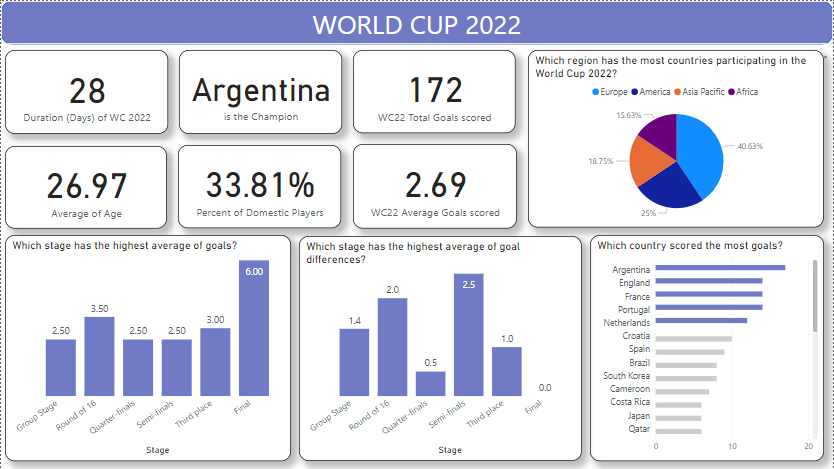

What the dashboard file says about the page in this screenshot:
{"tool":"powerbi","page":{"name":"WC 2022","canvas":[1280,720],"ordinal":1},"visuals":[{"type":"shape","box":[0,0,1280,66.8],"z":0},{"type":"pieChart","title":"Which region has the most countries participating in the World Cup 2022?","fields":{"Y":["Count(2022_world_cup_squads.Team)"],"Category":["Countries by Continents.Continent (modified)"]},"box":[810.4,76.1,455.2,273.1],"z":1000},{"type":"card","fields":{"Values":["2022 Measures.WC22 duration"]},"box":[6,75.7,250.8,128.6],"z":2000},{"type":"card","fields":{"Values":["2022 Measures.WC22 Goals scored"]},"box":[541.1,76.1,249.9,128.2],"z":3000},{"type":"card","fields":{"Values":["2022 Measures.WC22 mMost Goals Match"]},"box":[541.1,219.5,252.1,130.4],"z":4000},{"type":"clusteredBarChart","title":"Which country scored the most goals?","fields":{"Category":["Country paricipated in WC.Country"],"Y":["2022 Measures.WC22 Goals scored"],"Series":["Country paricipated in WC.Country (groups)"]},"box":[906,359.7,359.7,347.8],"z":5000},{"type":"card","fields":{"Values":["Min(world_cups_statistics.Winner)"]},"box":[273.5,75.7,250.8,128.6],"z":6000},{"type":"card","fields":{"Values":["Avg(2022_world_cup_squads.Age)"]},"box":[6,222.4,249.3,126.9],"z":7000},{"type":"card","fields":{"Values":["2022 Measures.Domestic Players"]},"box":[272.8,220.9,250.7,128.4],"z":8000},{"type":"columnChart","title":"Which stage has the highest average of goals?","fields":{"Category":["2022_world_cup_matches.Stage"],"Y":["2022 Measures.WC22 Average Goals scored"]},"box":[6,359.7,440.3,347.8],"z":9000},{"type":"columnChart","title":"Which stage has the highest average of goal differences?","fields":{"Category":["2022_world_cup_matches.Stage"],"Y":["2022 Measures.Avg Goal Difference"]},"box":[458.2,361.2,435,346.3],"z":10000}]}

Visuals, with their boxes in screenshot pixels (x1, y1, x2, y2), scaled from the page's 1280x720 canvas onto the 834x469 screenshot:
shape: [0, 0, 833, 44]
"Which region has the most countries participating in the World Cup 2022?" pieChart: [528, 50, 825, 227]
card - 2022 Measures.WC22 duration: [4, 49, 167, 133]
card - 2022 Measures.WC22 Goals scored: [353, 50, 515, 133]
card - 2022 Measures.WC22 mMost Goals Match: [353, 143, 517, 228]
"Which country scored the most goals?" clusteredBarChart: [590, 234, 825, 461]
card - Min(world_cups_statistics.Winner): [178, 49, 342, 133]
card - Avg(2022_world_cup_squads.Age): [4, 145, 166, 228]
card - 2022 Measures.Domestic Players: [178, 144, 341, 228]
"Which stage has the highest average of goals?" columnChart: [4, 234, 291, 461]
"Which stage has the highest average of goal differences?" columnChart: [299, 235, 582, 461]
